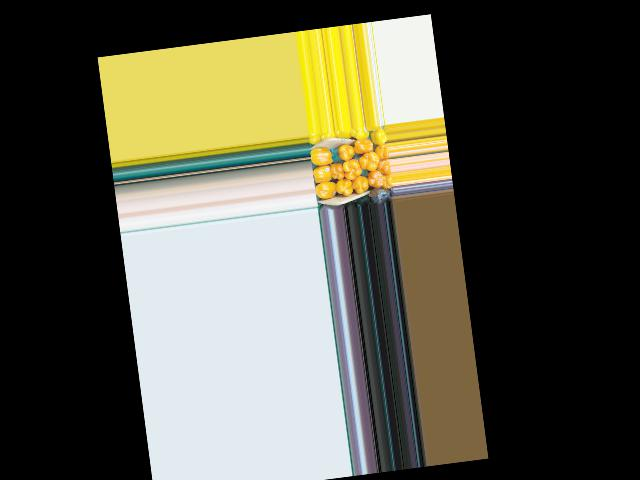bell_pepper: (347, 128, 370, 140)
